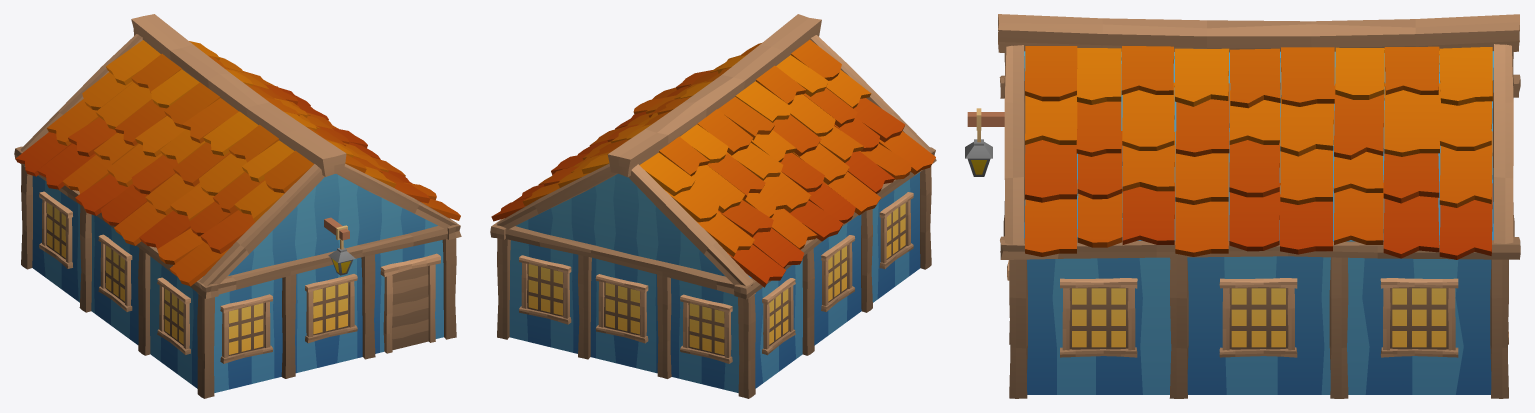
The model's file is pirate-house.glb.
The picture shows the model from 3 angles, left to right: view 1: azimuth 30°, elevation 25°; view 2: azimuth 150°, elevation 25°; view 3: azimuth 270°, elevation 25°; orthographic projection. The views are drawn at different scales.
Parts seen in each view (by area): view 1: pirate_house; view 2: pirate_house; view 3: pirate_house.
Boxes of the visible parts, bbox=[...] form: pirate_house: bbox=[14, 14, 461, 398]; pirate_house: bbox=[490, 14, 936, 398]; pirate_house: bbox=[965, 14, 1520, 398].
Bounding box in the file's own units: 7.21 × 5.26 × 9.05.
1 material, 1 textured.
